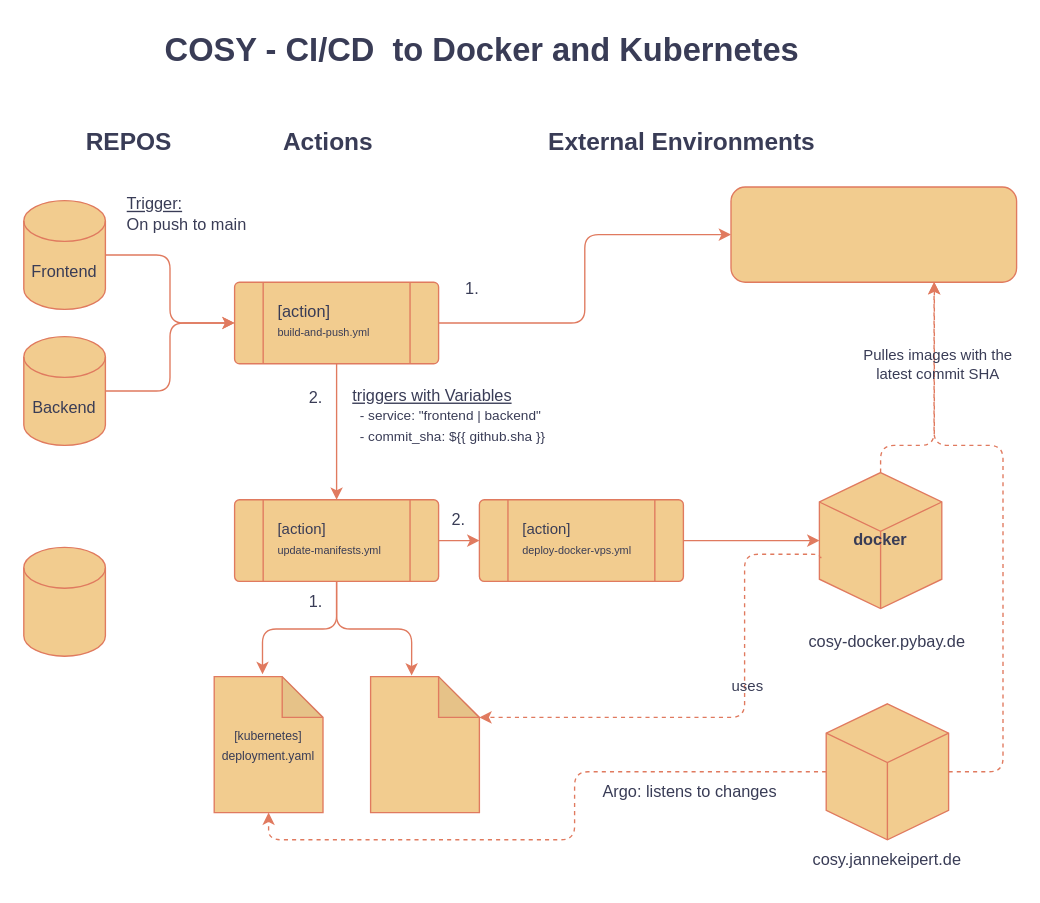
This 1040x903 diagram has some shape labels left out. The centre of each missing label's shape, as x and y in pixels:
[docker] docker-compose.yaml: pixel 424 744
ghcr-images Cosy-[Frontend|Backend]:[commit-sha]: pixel 873 234
internal-deployment: pixel 63 601
kubernetes: pixel 887 771
